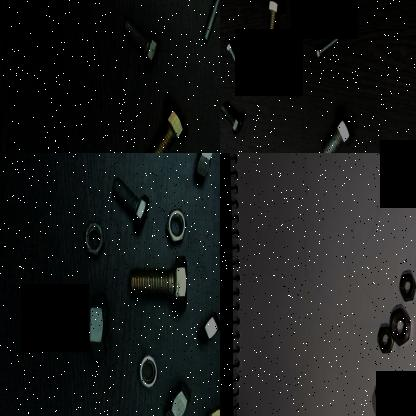Bolts: (48, 293, 113, 367), (127, 248, 187, 316), (137, 91, 189, 153), (118, 10, 161, 74), (106, 172, 150, 234), (318, 95, 356, 153), (261, 0, 285, 52), (220, 94, 243, 136), (199, 0, 220, 45), (312, 27, 338, 63), (225, 37, 245, 82)
NUTS: (162, 195, 190, 245), (131, 348, 161, 392), (77, 212, 105, 258), (197, 302, 220, 354), (162, 378, 192, 416), (388, 307, 411, 345), (372, 378, 394, 416), (192, 153, 218, 181), (396, 268, 416, 304), (374, 321, 394, 356), (401, 392, 416, 416)
